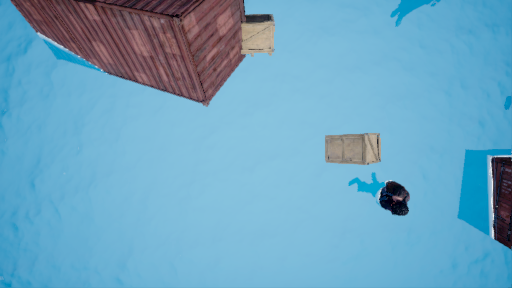person: (353, 173, 412, 224)
